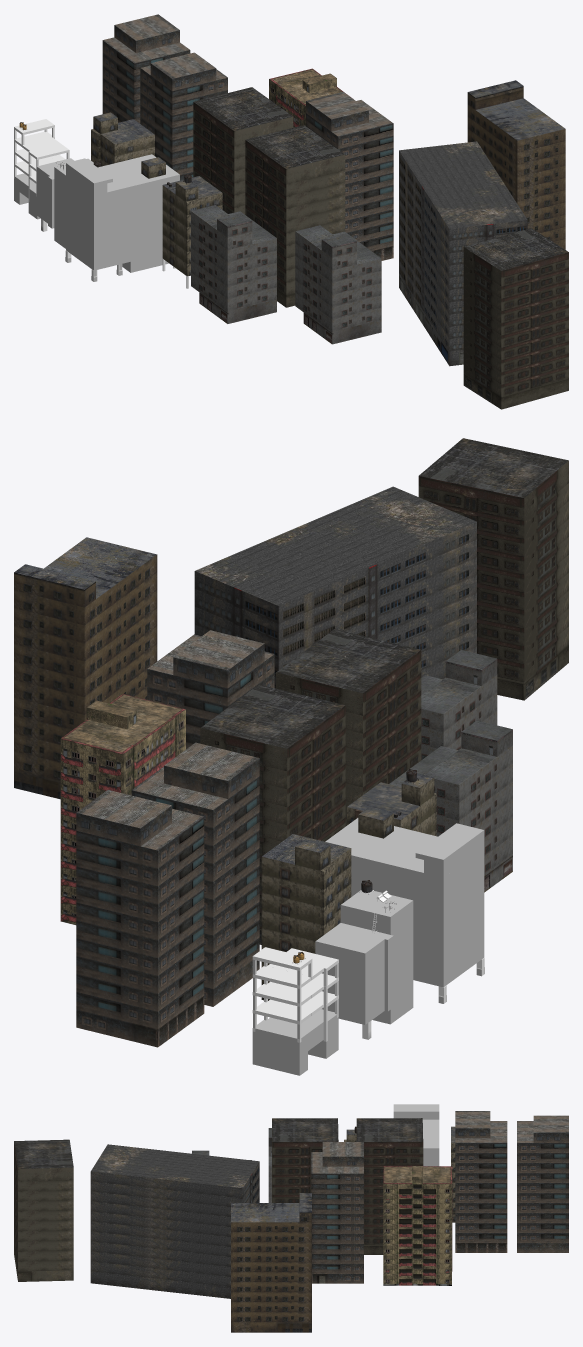
Rendered from Buildings Set 01.fbx.
3 views of the same model, one above another, from view 1: azimuth 30°, elevation 25°; view 2: azimuth 150°, elevation 25°; view 3: azimuth 270°, elevation 25° (orthographic). The views are drawn at different scales.
Visible parts, largest first — view 1: Tower04 (×3), Tower08 (×3), Tower02 (×2), Tower05, MidrangeQuarters, Tower07, LowendTall_01, Tower06, Tower01, MidrangeTall_02, ConstTower_05; view 2: Tower08 (×3), Tower04 (×3), Tower05, Tower07, Tower02 (×2), MidrangeQuarters, Tower01, MidrangeTall_02, Tower06, ConstTower_05, LowendTall_01, RoofBlockout; view 3: Tower08 (×3), Tower05, Tower04 (×3), Tower07, Tower01, MidrangeQuarters, Tower06, Tower02.
Boxes of the visible parts, bbox=[...] form: Tower04 (×3): bbox=[193, 87, 568, 409]; Tower08 (×3): bbox=[102, 14, 393, 260]; Tower02 (×2): bbox=[191, 205, 381, 344]; Tower05: bbox=[399, 141, 527, 366]; MidrangeQuarters: bbox=[65, 154, 179, 281]; Tower07: bbox=[467, 80, 565, 249]; LowendTall_01: bbox=[162, 176, 222, 276]; Tower06: bbox=[91, 112, 154, 166]; Tower01: bbox=[269, 68, 348, 127]; MidrangeTall_02: bbox=[37, 158, 93, 248]; ConstTower_05: bbox=[14, 173, 40, 219]; Tower08 (×3): bbox=[76, 630, 274, 1047]; Tower04 (×3): bbox=[200, 438, 568, 944]; Tower05: bbox=[194, 486, 476, 688]; Tower07: bbox=[14, 537, 157, 799]; Tower02 (×2): bbox=[389, 650, 512, 892]; MidrangeQuarters: bbox=[325, 818, 484, 1003]; Tower01: bbox=[60, 694, 185, 924]; MidrangeTall_02: bbox=[315, 890, 413, 1039]; Tower06: bbox=[261, 834, 351, 1000]; ConstTower_05: bbox=[252, 959, 338, 1075]; LowendTall_01: bbox=[347, 773, 436, 836]; RoofBlockout: bbox=[358, 807, 393, 838]; Tower08 (×3): bbox=[311, 1111, 568, 1283]; Tower05: bbox=[90, 1144, 259, 1298]; Tower04 (×3): bbox=[14, 1118, 423, 1281]; Tower07: bbox=[231, 1193, 311, 1332]; Tower01: bbox=[383, 1166, 452, 1285]; MidrangeQuarters: bbox=[393, 1104, 439, 1166]; Tower06: bbox=[451, 1126, 455, 1222]; Tower02: bbox=[268, 1128, 271, 1202].
Bounding box in the file's own units: 162 × 61.54 × 257.
